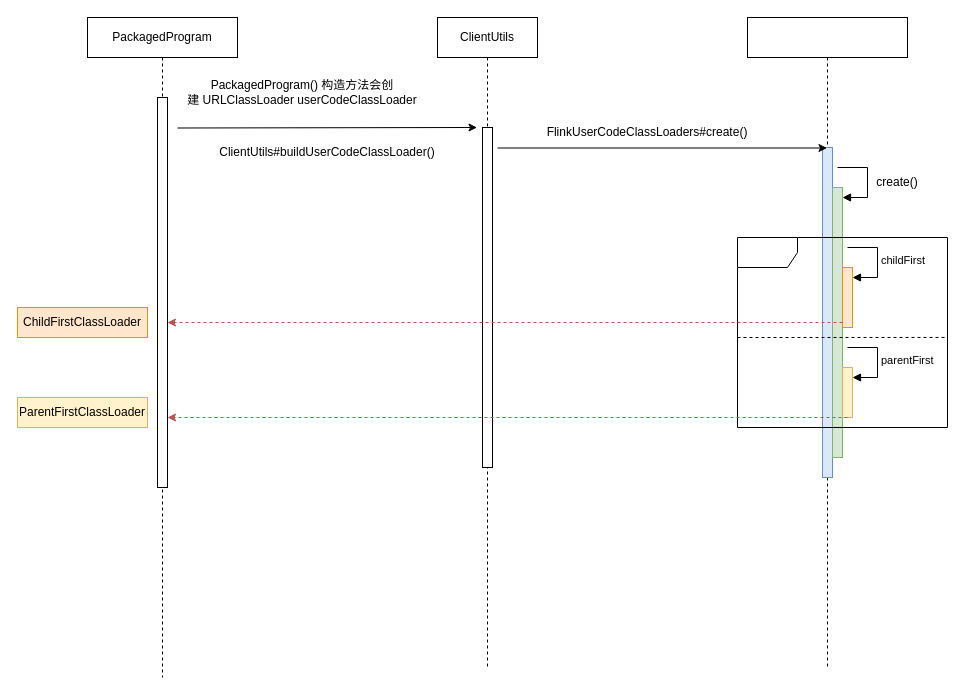
Some shapes in this 966 by 695 pixel diagram are drawn without their labels. The shapes that lost their labels are listed below. From the top down, each one's box as (x1, y1, x2, y2) in pixels, then its label:
(746, 16, 908, 668): FlinkUserCodeClassLoaders
(736, 236, 948, 428): Alt
